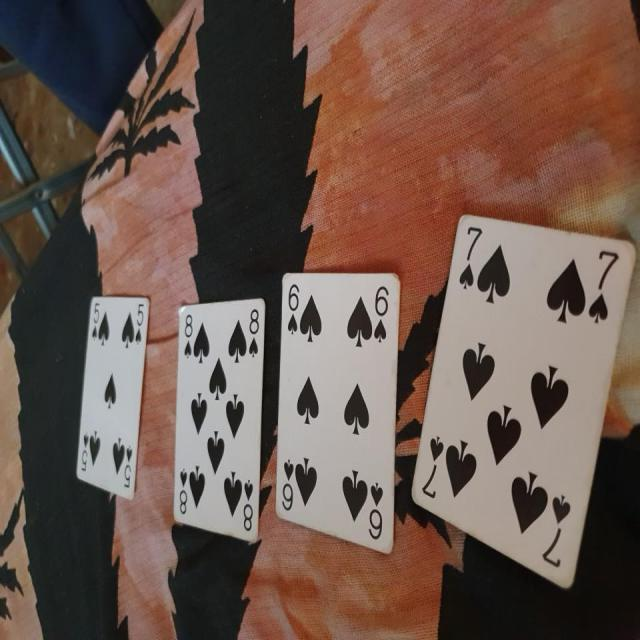5 of spades: (70, 290, 160, 490)
6 of spades: (268, 265, 408, 560)
7 of spades: (412, 198, 634, 594)
8 of spades: (172, 294, 268, 543)
